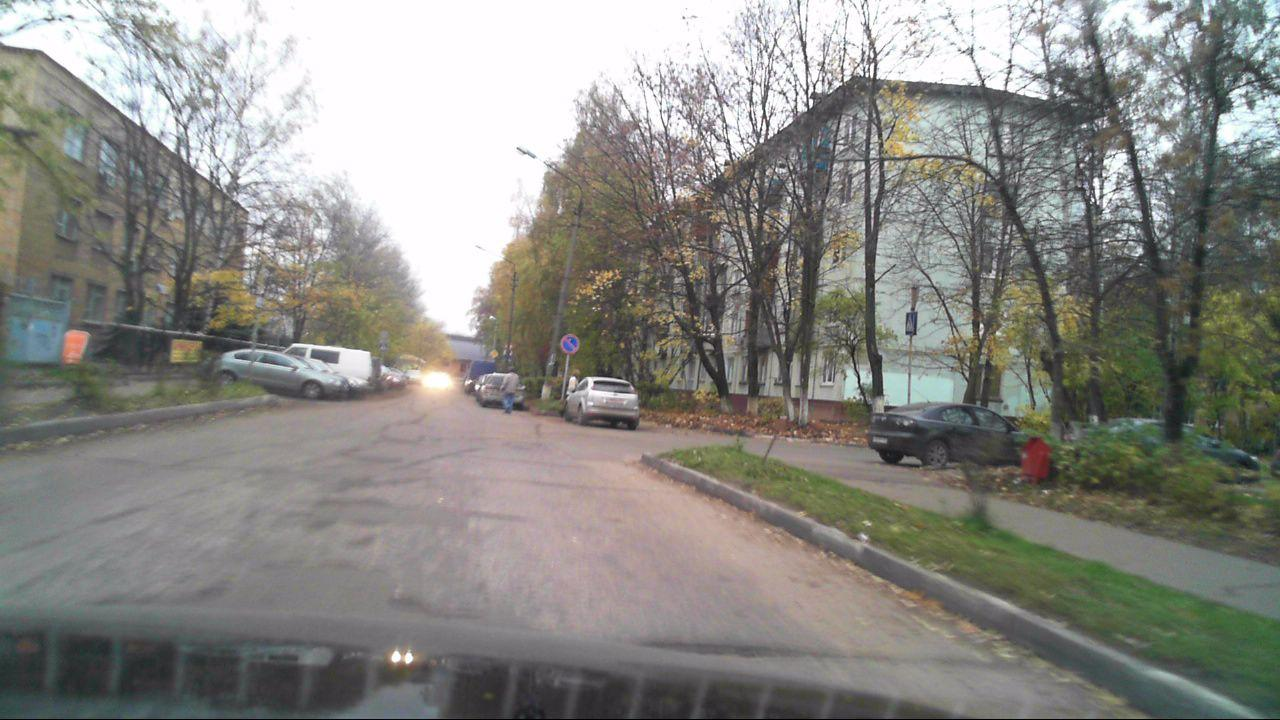2_1: (490, 350, 499, 360)
3_28: (558, 333, 581, 355)
5_19_2: (377, 341, 389, 351)
